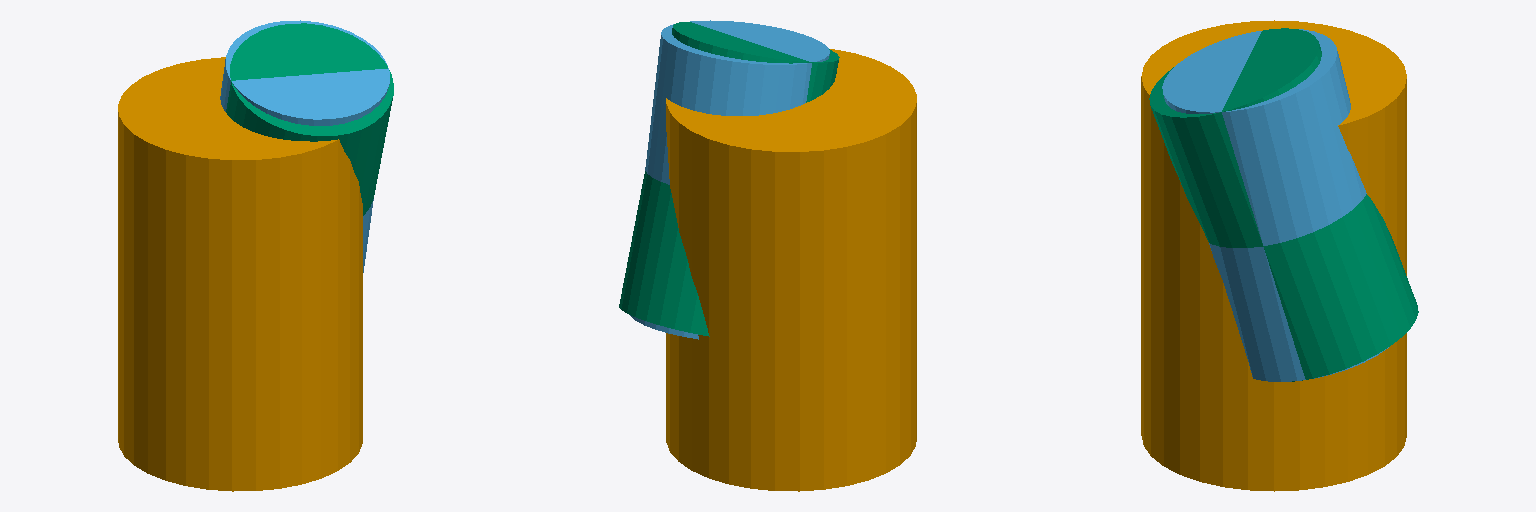
The robot description file, URDF, robot "pepe":
<?xml version="1.0"?><robot name="pepe">
	<link name="0">
		<visual>
			<geometry>
				<cylinder length="2.9780468539074367" radius="0.9999"/>
			</geometry>
		</visual>
		<collision>
			<geometry>
				<cylinder length="2.9780468539074367" radius="0.9999"/>
			</geometry>
		</collision>
		<inertial>
			<mass value="9.353939049816244"/>
			<inertia ixx="0.03" iyy="0.03" izz="0.03" ixy="0" ixz="0" iyx="0"/>
		</inertial>
	</link>
	<link name="11">
		<visual>
			<geometry>
				<cylinder length="2.294431198548997" radius="0.6769759616659846"/>
			</geometry>
		</visual>
		<collision>
			<geometry>
				<cylinder length="2.294431198548997" radius="0.6769759616659846"/>
			</geometry>
		</collision>
		<inertial>
			<mass value="3.3034779152019746"/>
			<inertia ixx="0.03" iyy="0.03" izz="0.03" ixy="0" ixz="0" iyx="0"/>
		</inertial>
	</link>
	<link name="12">
		<visual>
			<geometry>
				<cylinder length="2.294431198548997" radius="0.6769759616659846"/>
			</geometry>
		</visual>
		<collision>
			<geometry>
				<cylinder length="2.294431198548997" radius="0.6769759616659846"/>
			</geometry>
		</collision>
		<inertial>
			<mass value="3.3034779152019746"/>
			<inertia ixx="0.03" iyy="0.03" izz="0.03" ixy="0" ixz="0" iyx="0"/>
		</inertial>
	</link>
	<joint name="11_to_0" type="revolute">
		<parent link="0"/>
		<child link="11"/>
		<axis xyz="0 1 0"/>
		<limit effort="1" upper="-3.1415" lower="3.1415" velocity="1"/>
		<origin rpy="6.502832836457893 3.090190378513591 2.911190276195395" xyz="0.5297463771887722 0.07326856639636481 0.6681311235131618"/>
	</joint>
	<joint name="12_to_0" type="revolute">
		<parent link="0"/>
		<child link="12"/>
		<axis xyz="0 1 0"/>
		<limit effort="1" upper="-3.1415" lower="3.1415" velocity="1"/>
		<origin rpy="9.75424925468684 3.090190378513591 2.911190276195395" xyz="0.5297463771887722 0.07326856639636481 0.6681311235131618"/>
	</joint>
</robot>

--- Render facts (derived) ---
3 views of the same robot in one strip: view 1: azimuth 30°, elevation 25°; view 2: azimuth 150°, elevation 25°; view 3: azimuth 270°, elevation 25° (orthographic).
Robot: pepe — 3 links, 2 joints (2 revolute); root link 0; default pose: all joints at 0.
Visible links, largest first — view 1: 0, 12, 11; view 2: 0, 11, 12; view 3: 0, 12, 11.
Link boxes in pixels (bbox=[...]): 0: bbox=[118, 57, 362, 491]; 12: bbox=[226, 23, 393, 215]; 11: bbox=[220, 20, 389, 272]; 0: bbox=[666, 49, 916, 491]; 11: bbox=[630, 20, 829, 339]; 12: bbox=[619, 22, 839, 336]; 0: bbox=[1141, 20, 1406, 491]; 12: bbox=[1149, 28, 1418, 381]; 11: bbox=[1162, 29, 1388, 381].
Bounding box of the posed robot: 2.24 × 2.09 × 3.46 m (x, y, z).
Geometry: primitives only (box / cylinder / sphere), no mesh files.
